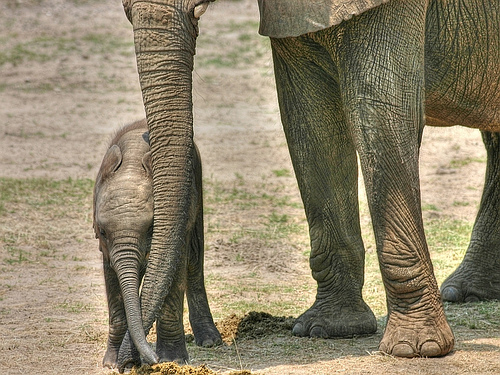elephant: (96, 1, 500, 362), (82, 113, 233, 373)
